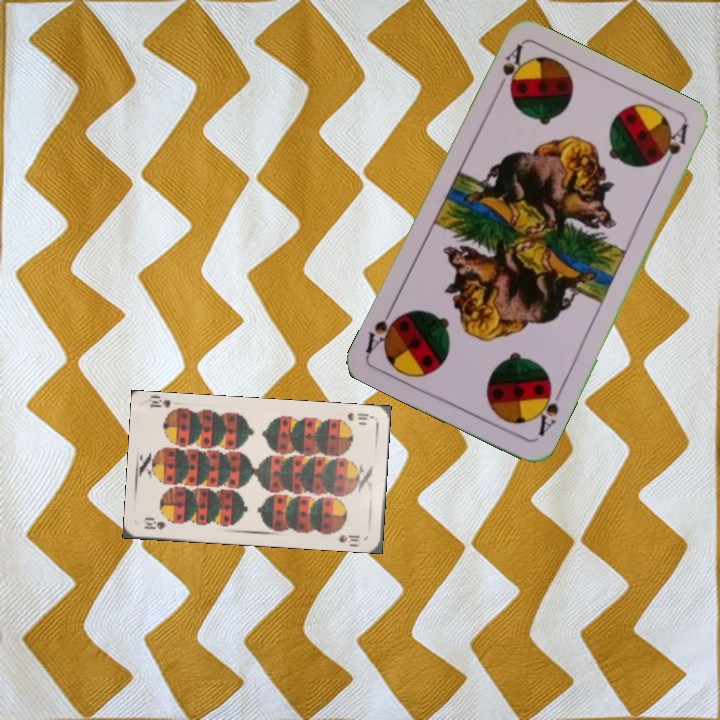S10: (333, 409, 374, 426), (139, 515, 169, 532)
SA: (491, 40, 531, 99), (530, 381, 565, 439)
